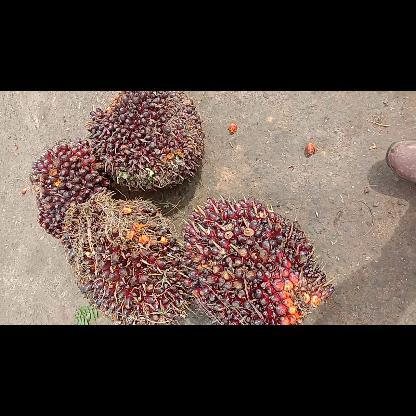Kurang masak: (180, 194, 334, 324), (66, 192, 194, 324), (86, 91, 206, 189), (30, 138, 110, 238)
